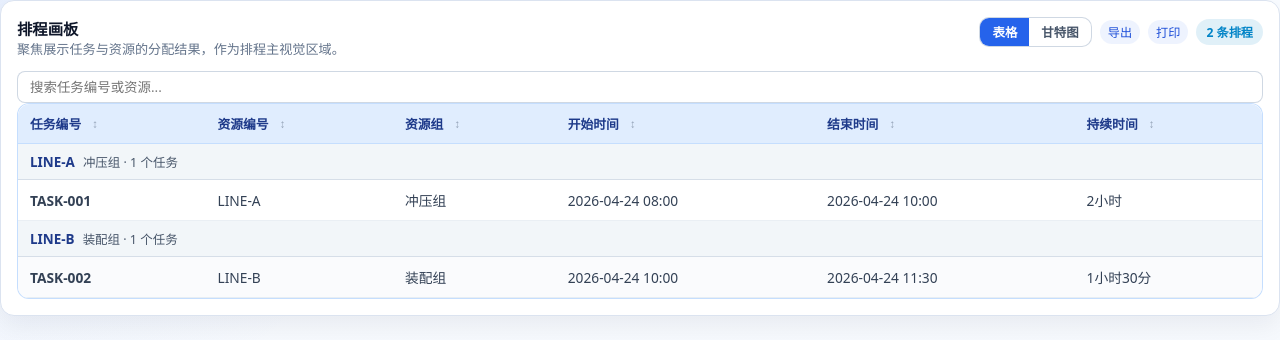
Scenario: ScheduleBoard › 甘特视图按资源分组展示任务条
The width and height of the screenshot is (1280, 340).
Click the button with test id "view-mode-gantt" at (1060, 32), box [1029, 18, 1091, 46]
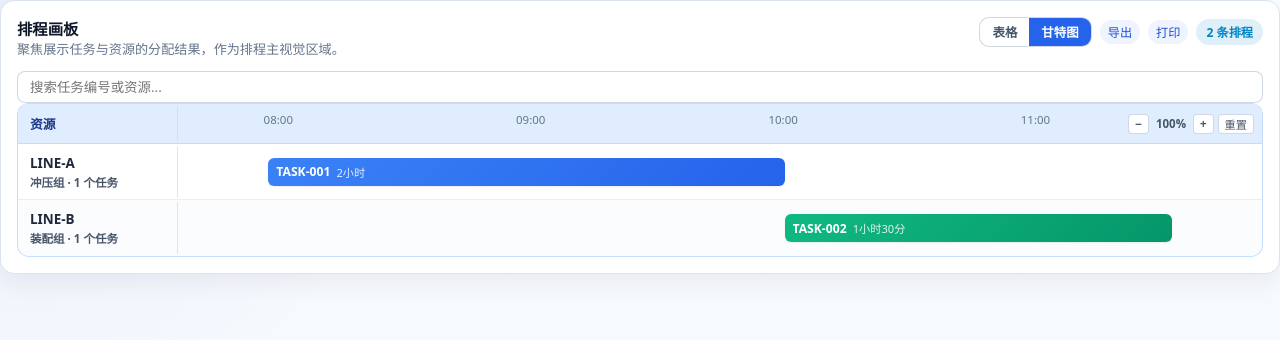
Check: the element with test id "gantt-row-LINE-A" is shown, box [18, 144, 1262, 200]
Check: the element with test id "gantt-row-LINE-B" is shown, box [18, 200, 1262, 256]
Check: the element with test id "gantt-bar-TASK-001" is shown, box [268, 158, 784, 186]
